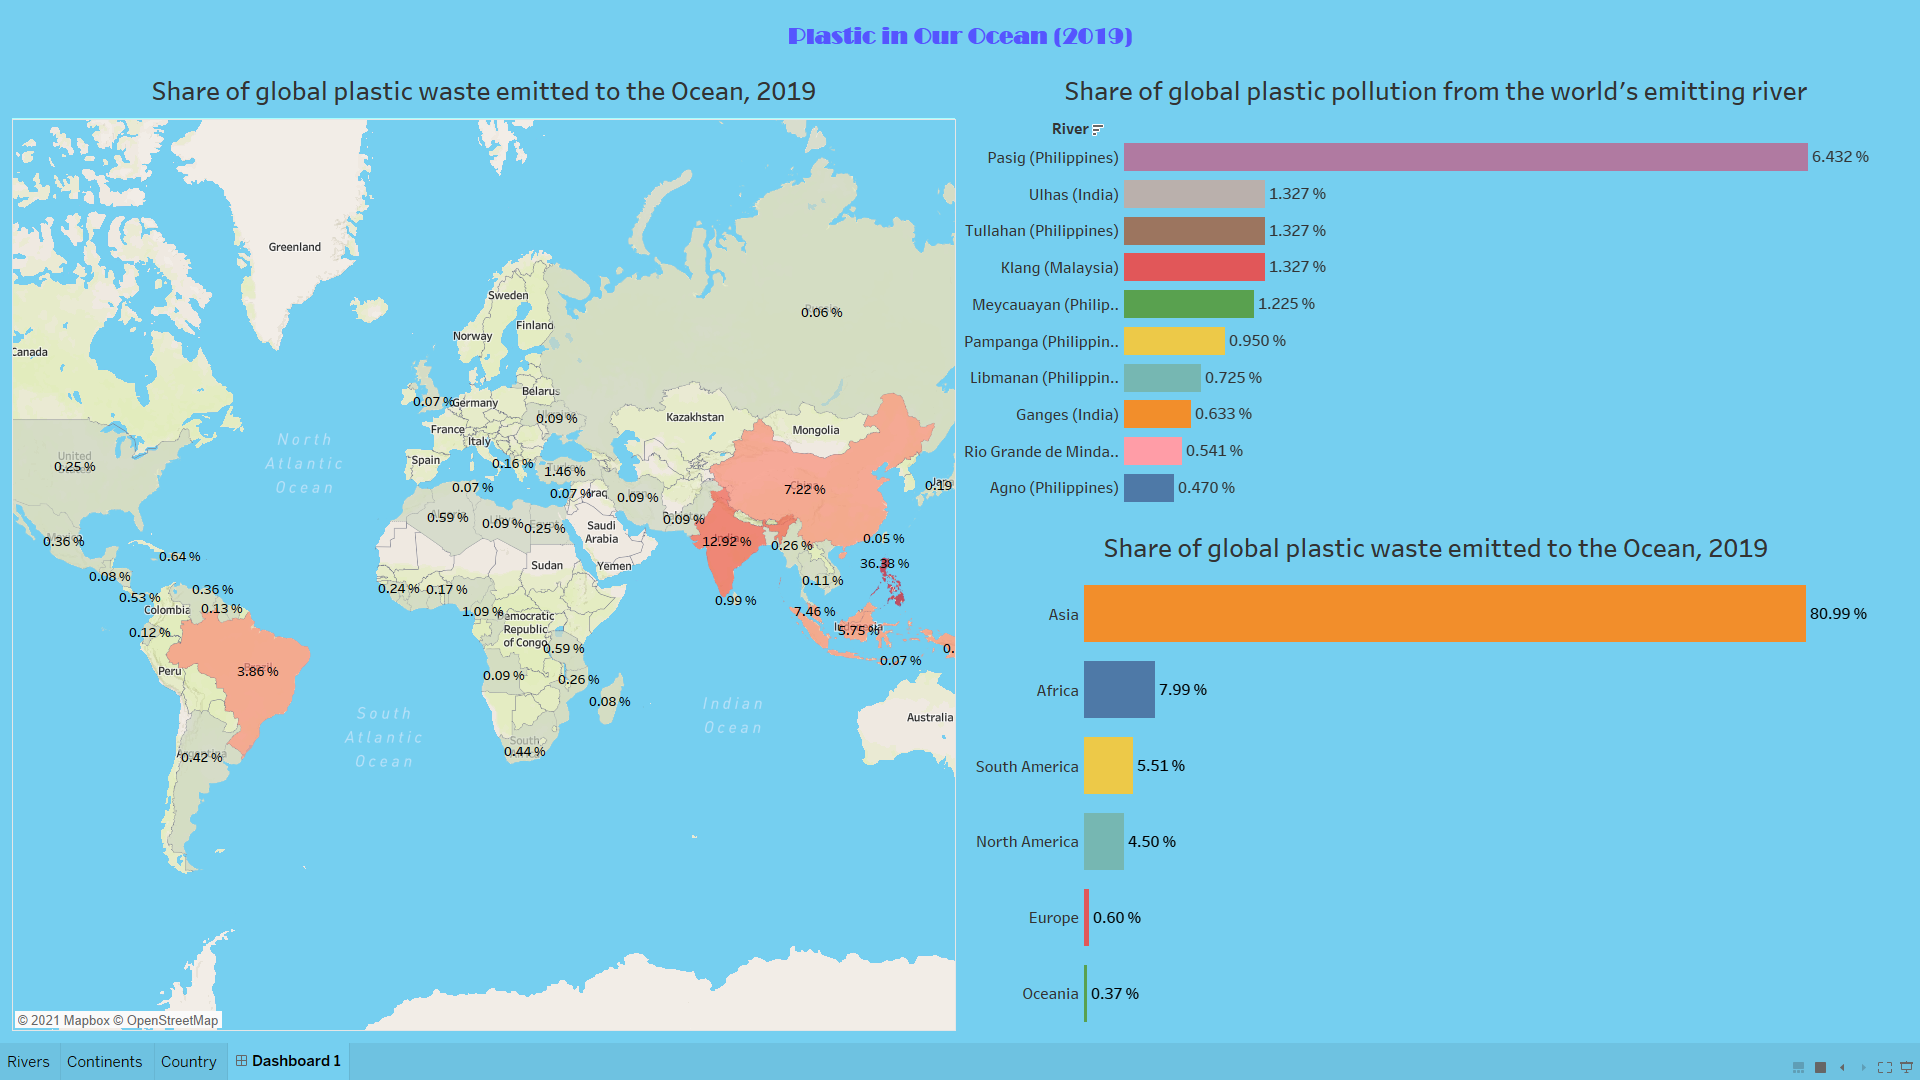

The dashboard page shown, as its layout file describes it:
{"tool":"tableau","page":{"name":"Dashboard 1","canvas":[1000,1000],"units":"permille","ordinal":0},"visuals":[{"type":"worksheet","box":[0,0,1000,1000]},{"type":"worksheet","box":[4.8,9.3,990.3,54.6]},{"type":"worksheet","title":"Country","mark":"Multipolygon","box":[4.8,63.9,495.2,926.9]},{"type":"worksheet","param":"vert","box":[500,63.9,495.2,436.2]},{"type":"worksheet","title":"Rivers","mark":"Automatic","rows":["Entity"],"cols":["Share of global plastics emitted to ocean"],"box":[500,63.9,495.2,436.1]},{"type":"worksheet","param":"vert","box":[500,500,495.2,490.7]},{"type":"worksheet","title":"Continents","mark":"Automatic","rows":["Entity"],"cols":["Share of global plastics emitted to ocean"],"box":[500,500,495.2,490.7]}]}

Visuals, with their boxes on the dashboard's canvas, which has no fixed pixel size, in thousandths of its width and height (x1, y1, x2, y2). These are canvas units, not pixel positions in the 1920x1080 screenshot, which may show the page scaled, cropped or inside an application window:
worksheet: <bbox>0, 0, 1000, 1000</bbox>
worksheet: <bbox>5, 9, 995, 64</bbox>
"Country" worksheet (Multipolygon marks): <bbox>5, 64, 500, 991</bbox>
worksheet: <bbox>500, 64, 995, 500</bbox>
"Rivers" worksheet: <bbox>500, 64, 995, 500</bbox>
worksheet: <bbox>500, 500, 995, 991</bbox>
"Continents" worksheet: <bbox>500, 500, 995, 991</bbox>
